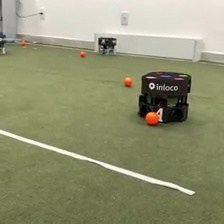ball: (143, 107, 160, 127), (122, 74, 134, 87), (78, 49, 86, 57), (20, 38, 27, 47)
goal: (92, 31, 205, 62)
robot: (136, 68, 194, 125), (96, 34, 118, 56)
